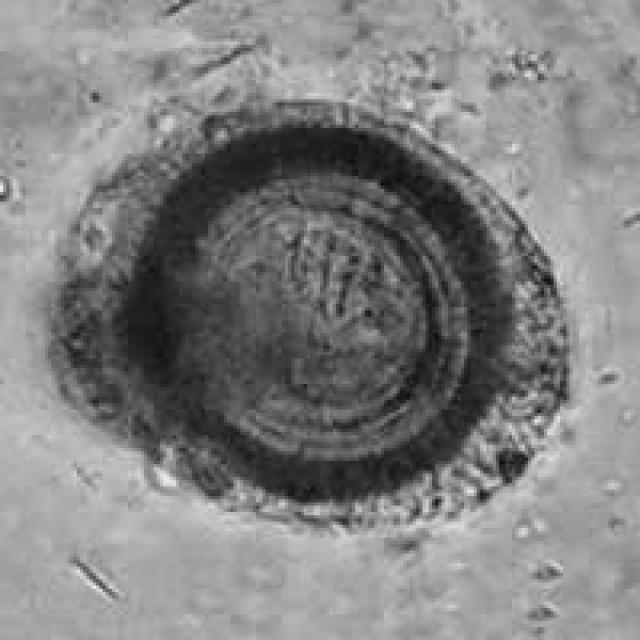Taenia Sp: (51, 93, 566, 544)
